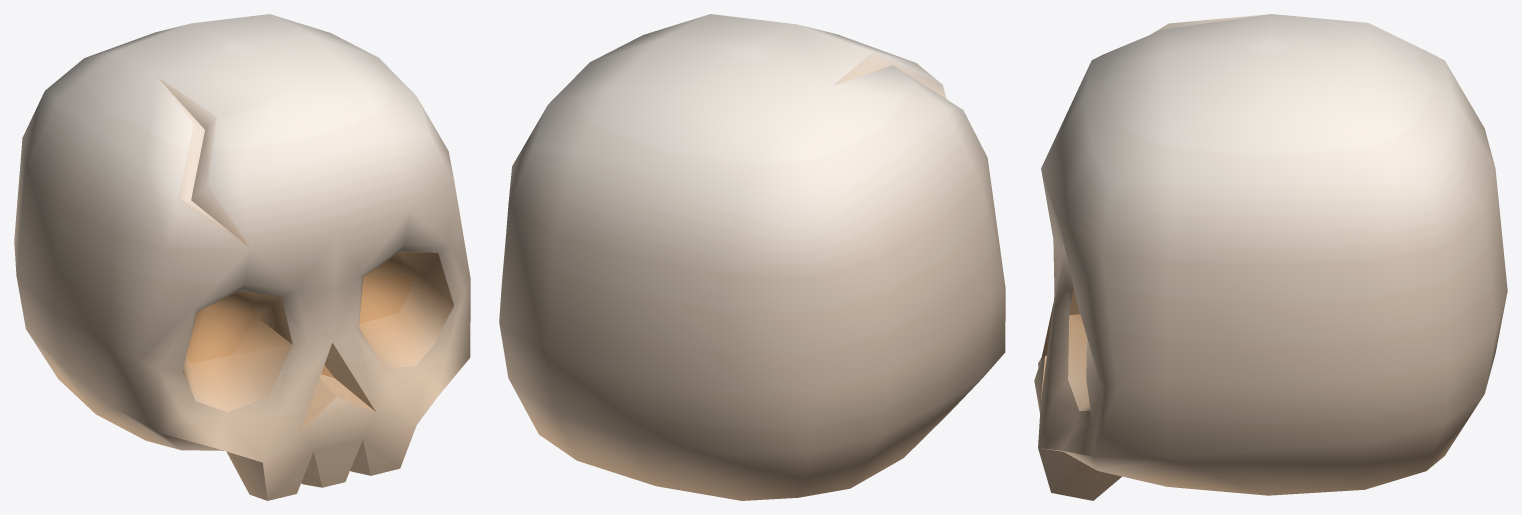
File: hb_skull.glb
3 views of the same model, side by side, from view 1: azimuth 30°, elevation 25°; view 2: azimuth 150°, elevation 25°; view 3: azimuth 270°, elevation 25° (orthographic). The views are drawn at different scales.
Visible parts, largest first — view 1: skull; view 2: skull; view 3: skull.
Boxes of the visible parts, left/top/right/bottom form: skull: left=14, top=14, right=470, bottom=500; skull: left=499, top=14, right=1005, bottom=500; skull: left=1034, top=14, right=1507, bottom=500.
Bounding box in the file's own units: 0.24 × 0.2349 × 0.2373.
Materials: 1 (1 with a texture image).
